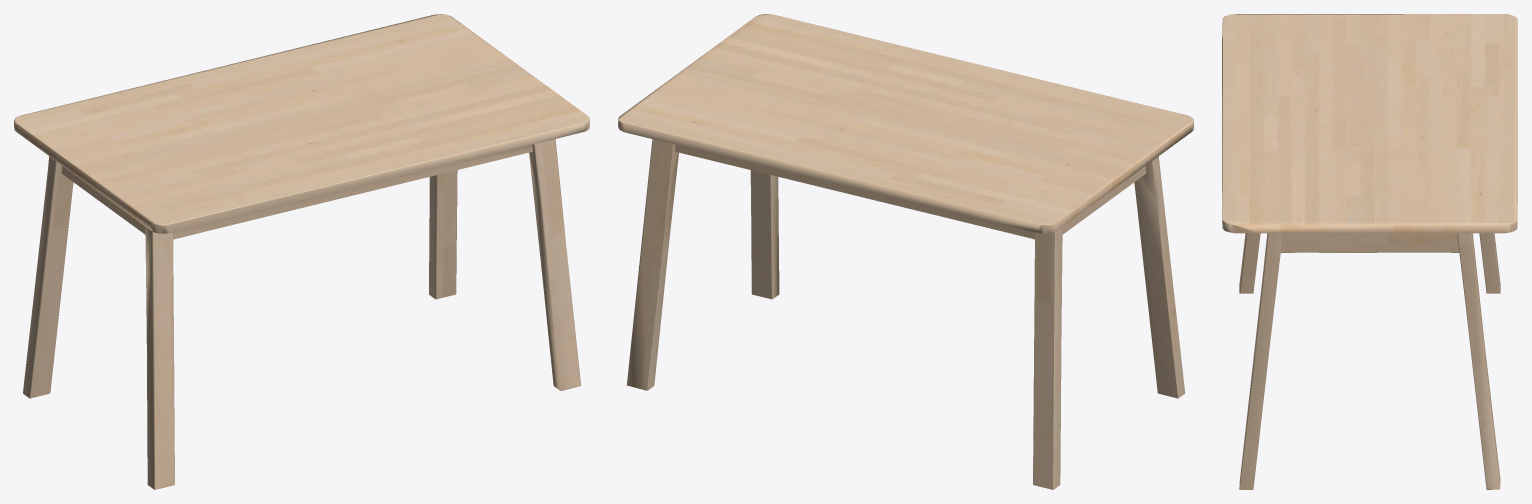
3 renders of one model, left to right at view 1: azimuth 30°, elevation 25°; view 2: azimuth 150°, elevation 25°; view 3: azimuth 270°, elevation 25°, orthographic.
Visible parts, largest first — view 1: ProcessedMeshNode; view 2: ProcessedMeshNode; view 3: ProcessedMeshNode.
Boxes of the visible parts, bbox=[...] form: ProcessedMeshNode: bbox=[14, 14, 589, 489]; ProcessedMeshNode: bbox=[618, 14, 1193, 489]; ProcessedMeshNode: bbox=[1222, 14, 1517, 489].
Bounding box in the file's own units: 1.25 × 0.7438 × 0.7404.
Materials: 1 (1 with a texture image).
